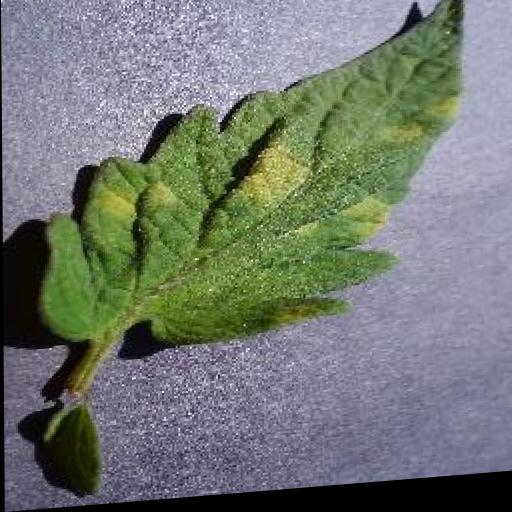Leaf Mold: (38, 0, 468, 356)
